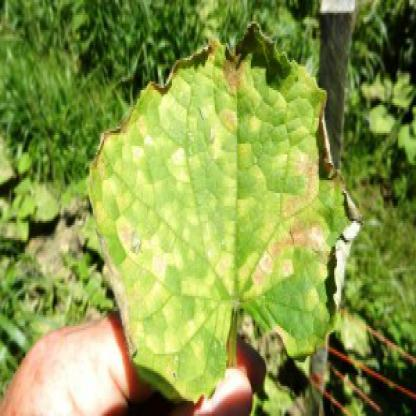Tomato leaf bacterial spot: (72, 17, 372, 412)
